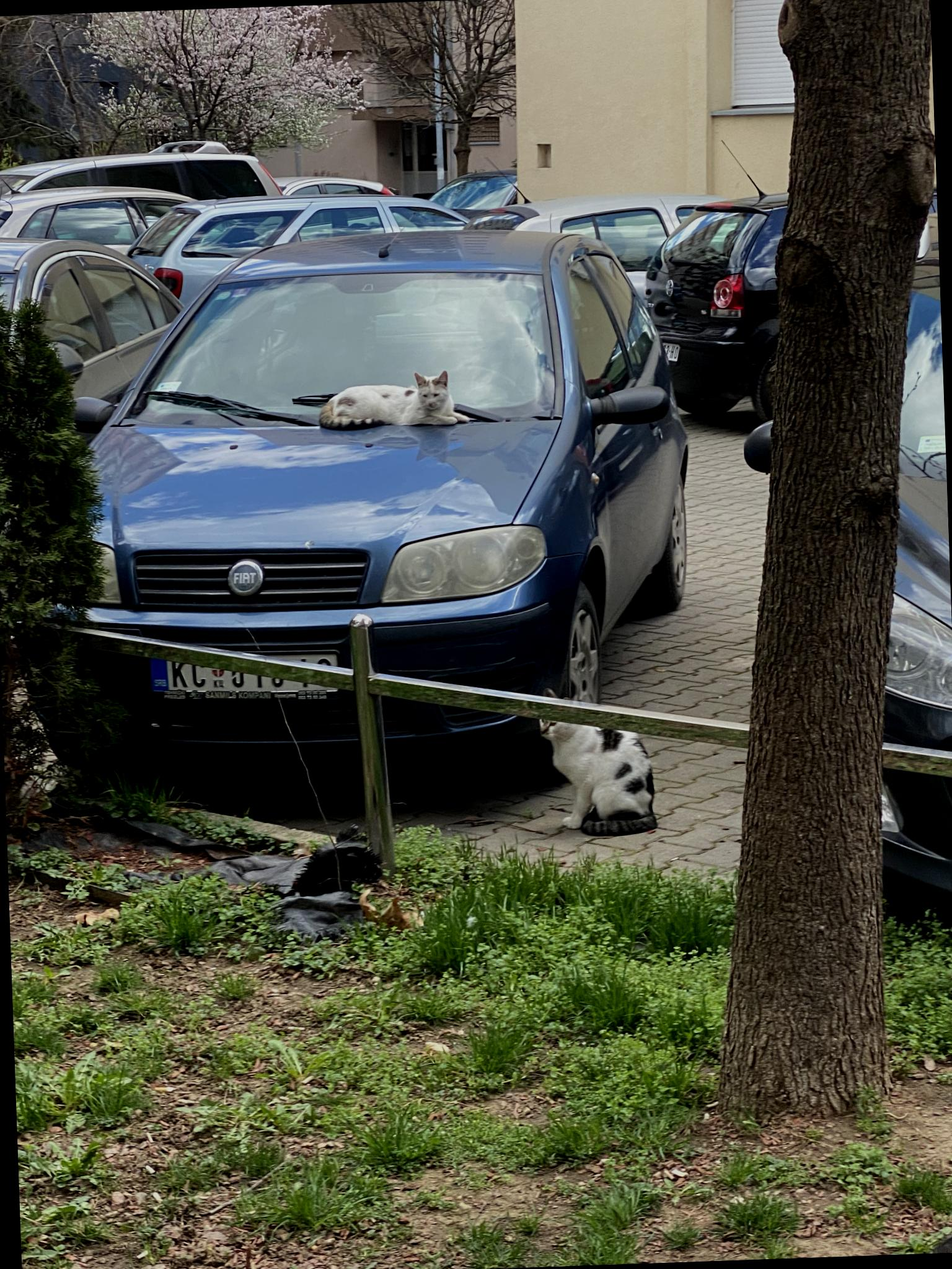macka: (537, 711, 659, 839), (320, 370, 475, 431)
